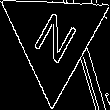N_SW: (27, 6, 81, 70)
